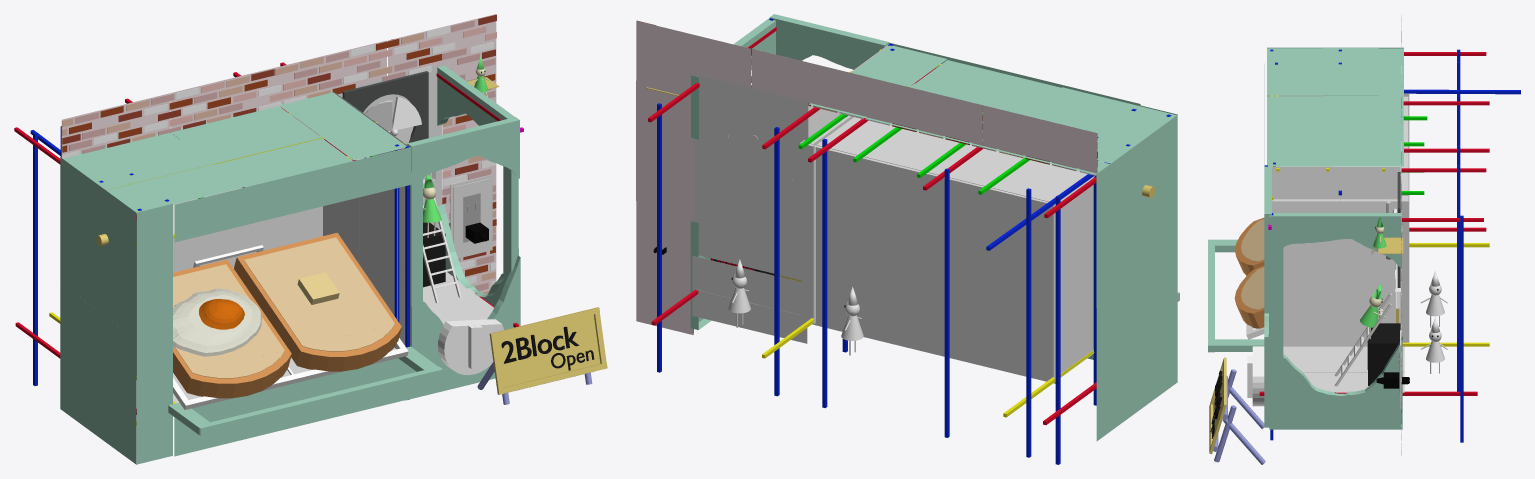
The picture shows the model from 3 angles, left to right: view 1: azimuth 30°, elevation 25°; view 2: azimuth 150°, elevation 25°; view 3: azimuth 270°, elevation 25°; orthographic projection. The views are drawn at different scales.
Visible parts, largest first — view 1: 立方体.085, 立方体.014, 立方体.016, 立方体.005, 立方体.004, 平面.001, 立方体.001, 立方体.119, 円柱.024, 平面.002, 円.008, 立方体.042 (+37 smaller); view 2: 立方体.009, 立方体.066, 立方体.014, 立方体.016, 立方体.075, 立方体.074, 立方体.039, 立方体.082, 立方体.076, 立方体.083, 立方体.073, 立方体.077 (+23 smaller); view 3: 平面.002, 立方体.018, 立方体.025, 立方体.011, 立方体.032, 立方体.007, 立方体.010, 立方体.008, 円柱.024, 平面.001, 立方体.085, 立方体.115 (+27 smaller).
Part boxes in pixels (left/top/right/bottom): 立方体.085: left=234, top=232, right=401, bottom=371; 立方体.014: left=60, top=283, right=136, bottom=464; 立方体.016: left=60, top=157, right=136, bottom=338; 立方体.005: left=174, top=147, right=411, bottom=242; 立方体.004: left=137, top=204, right=172, bottom=464; 平面.001: left=407, top=117, right=520, bottom=384; 立方体.001: left=174, top=358, right=404, bottom=456; 立方体.119: left=173, top=259, right=291, bottom=398; 円柱.024: left=477, top=307, right=607, bottom=404; 平面.002: left=437, top=65, right=518, bottom=306; 円.008: left=173, top=288, right=262, bottom=356; 立方体.042: left=359, top=157, right=397, bottom=319; 立方体.009: left=801, top=141, right=929, bottom=352; 立方体.066: left=929, top=172, right=1055, bottom=383; 立方体.014: left=1096, top=249, right=1177, bottom=441; 立方体.016: left=1096, top=115, right=1177, bottom=307; 立方体.075: left=693, top=136, right=801, bottom=220; 立方体.074: left=693, top=194, right=801, bottom=280; 立方体.039: left=1053, top=178, right=1093, bottom=378; 立方体.082: left=636, top=81, right=693, bottom=214; 立方体.076: left=693, top=74, right=808, bottom=160; 立方体.083: left=636, top=201, right=693, bottom=334; 立方体.073: left=692, top=255, right=807, bottom=343; 立方体.077: left=982, top=105, right=1097, bottom=172; 平面.002: left=1268, top=213, right=1402, bottom=429; 立方体.018: left=1272, top=167, right=1333, bottom=346; 立方体.025: left=1333, top=166, right=1401, bottom=346; 立方体.011: left=1323, top=95, right=1379, bottom=142; 立方体.032: left=1267, top=143, right=1378, bottom=166; 立方体.007: left=1267, top=48, right=1322, bottom=95; 立方体.010: left=1323, top=48, right=1378, bottom=95; 立方体.008: left=1267, top=96, right=1322, bottom=142; 円柱.024: left=1209, top=357, right=1265, bottom=464; 平面.001: left=1264, top=166, right=1271, bottom=427; 立方体.085: left=1234, top=266, right=1264, bottom=328; 立方体.115: left=1367, top=323, right=1400, bottom=385.
Size of the model in its own units: 14.8 by 9.4 by 10.05.
